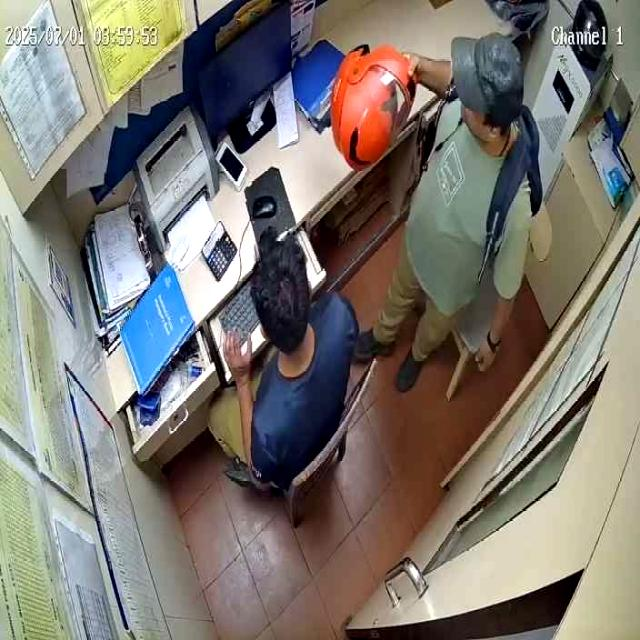helmet: (331, 44, 416, 173)
no_helmet: (250, 226, 311, 357), (451, 32, 525, 139)
